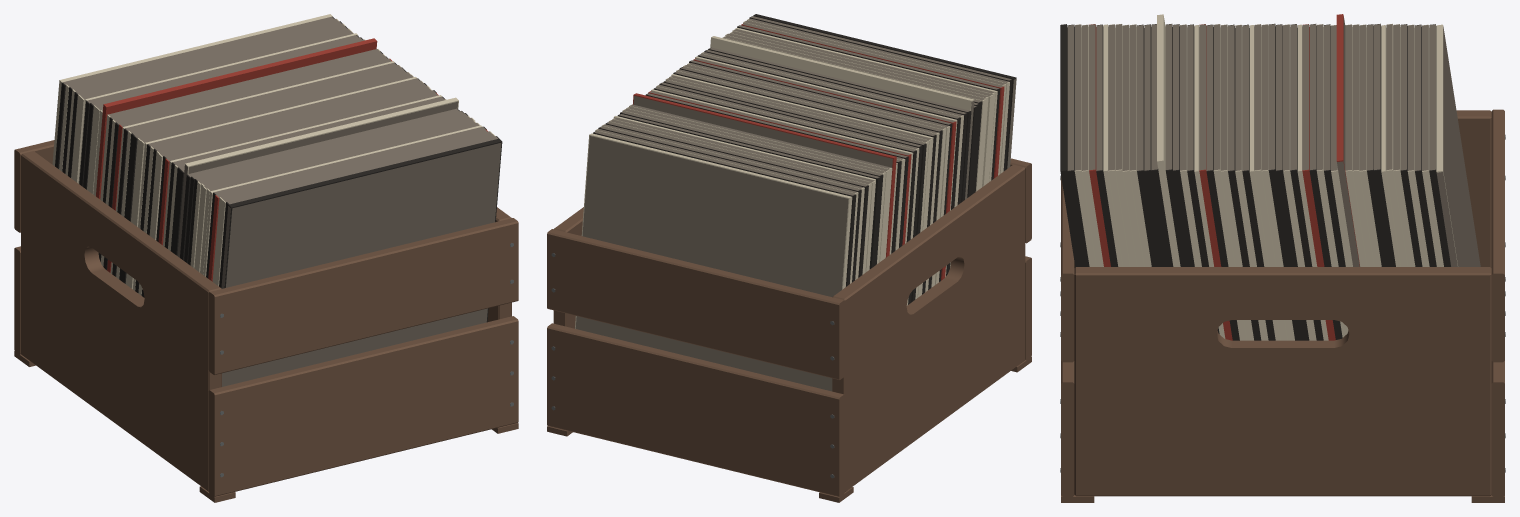
File: vinyl-crate-11ce21ba51dd.glb
3 views of the same model, side by side, from view 1: azimuth 30°, elevation 25°; view 2: azimuth 150°, elevation 25°; view 3: azimuth 270°, elevation 25° (orthographic). The views are drawn at different scales.
Parts seen in each view (by area): view 1: wood, cover-print, paper, cone-paper, accent-warm; view 2: wood, cover-print, paper, cone-paper, accent-warm; view 3: wood, cover-print, paper, cone-paper, accent-warm.
Boxes of the visible parts, <box> form: wood: <box>14,140,518,502</box>; cover-print: <box>63,16,501,386</box>; paper: <box>52,14,495,295</box>; cone-paper: <box>55,16,502,322</box>; accent-warm: <box>96,38,487,281</box>; wood: <box>547,158,1031,502</box>; cover-print: <box>575,16,1016,391</box>; paper: <box>575,18,1009,328</box>; cone-paper: <box>593,14,1016,304</box>; accent-warm: <box>632,23,1004,280</box>; wood: <box>1061,109,1504,502</box>; cover-print: <box>1067,16,1480,266</box>; paper: <box>1074,14,1458,340</box>; cone-paper: <box>1060,23,1450,340</box>; accent-warm: <box>1089,14,1359,340</box>.
Bounding box in the file's own units: 0.35 × 0.3317 × 0.4013.
